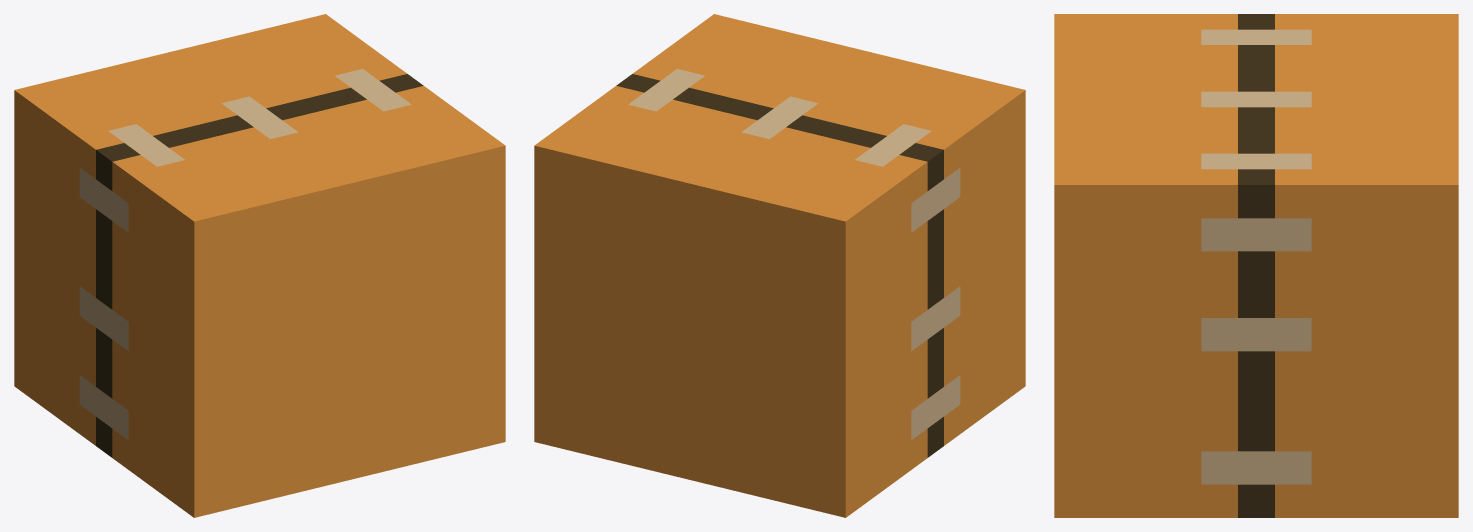
File: PaperBox.obj
3 views of the same model, side by side, from view 1: azimuth 30°, elevation 25°; view 2: azimuth 150°, elevation 25°; view 3: azimuth 270°, elevation 25° (orthographic). The views are drawn at different scales.
Size of the model in its own units: 1.1 by 1 by 1.1.
Materials: 1 (1 with a texture image).
